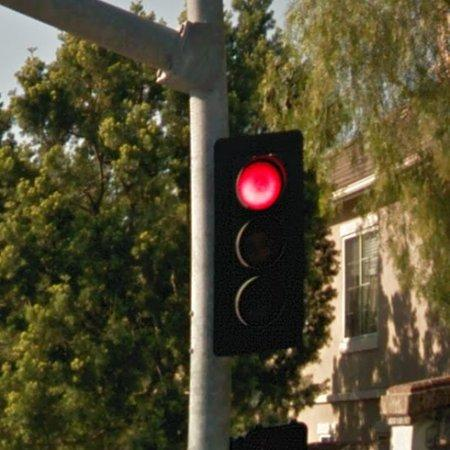traffic lights: (214, 131, 305, 357)
